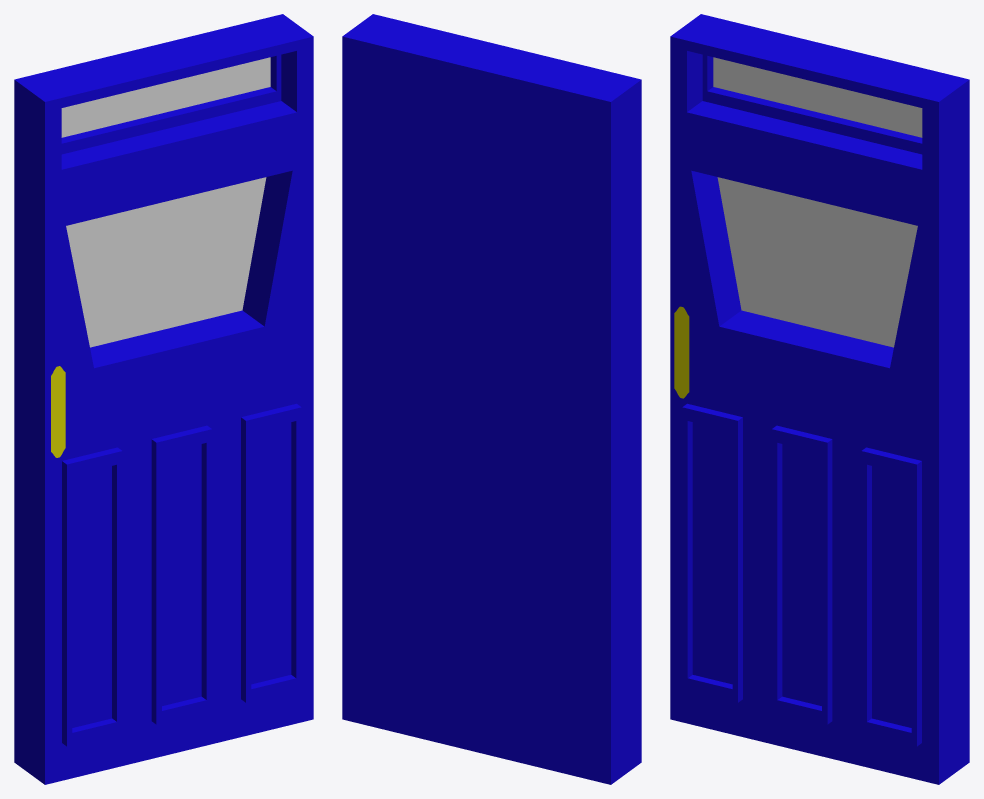
File: Door2.fbx
3 renders of one model, left to right at view 1: azimuth 30°, elevation 25°; view 2: azimuth 150°, elevation 25°; view 3: azimuth 330°, elevation 25°, orthographic.
Visible parts, largest first — view 1: Door; view 2: Door; view 3: Door.
Part boxes in pixels (bbox=[...]): Door: bbox=[14, 14, 313, 784]; Door: bbox=[342, 14, 641, 784]; Door: bbox=[670, 14, 969, 784].
Bounding box in the file's own units: 240 × 582 × 55.08.
